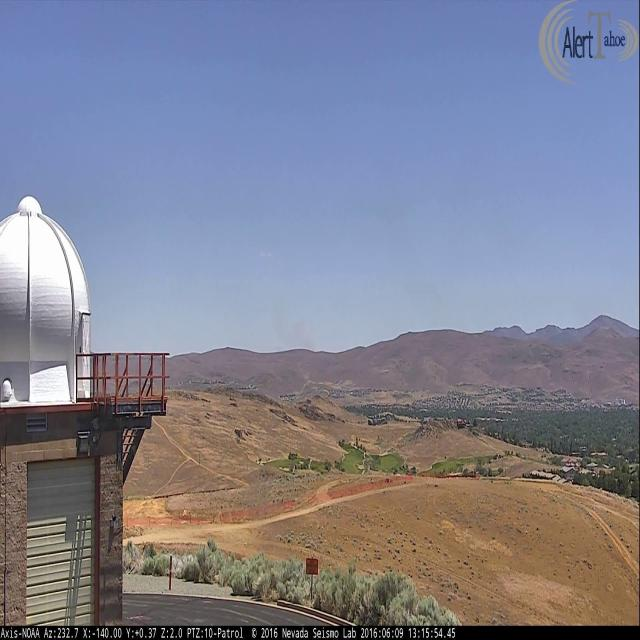smoke: (271, 308, 318, 349)
